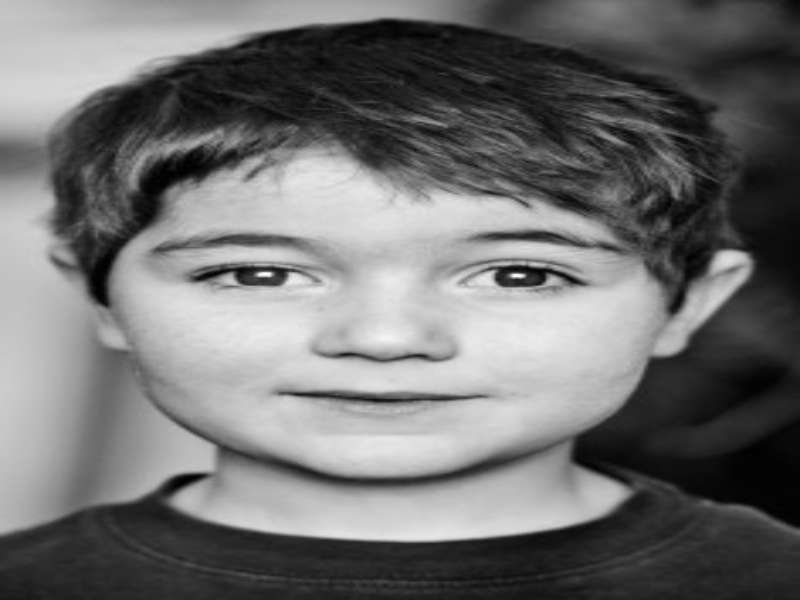face: (164, 200, 634, 449)
